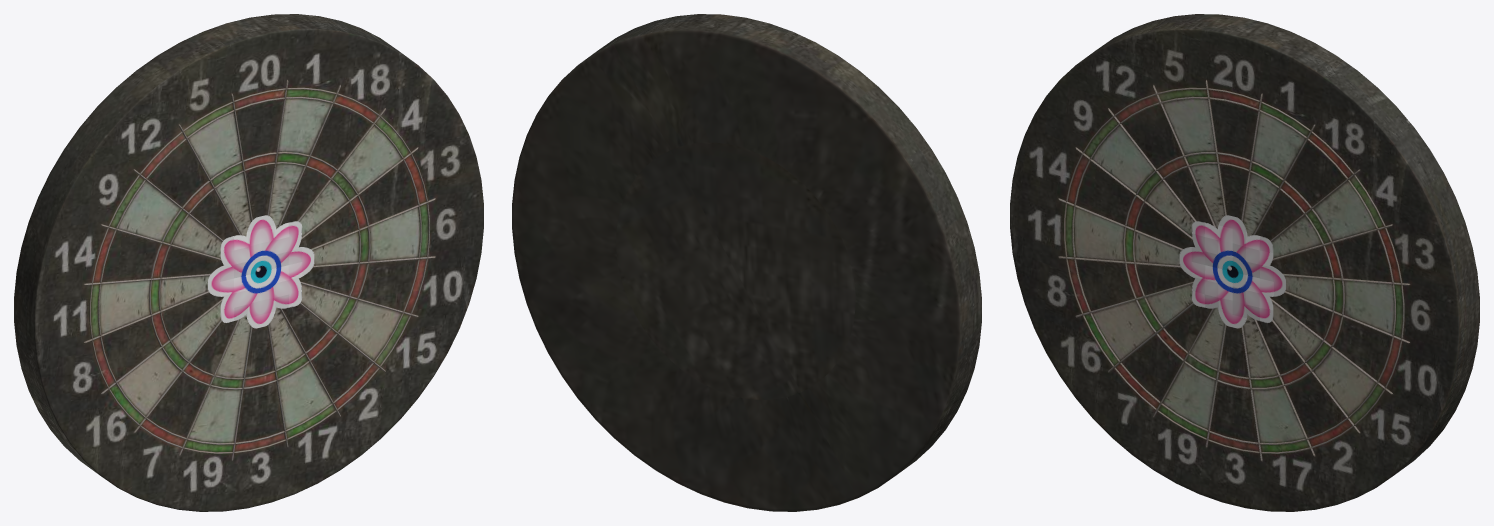
Rendered from nyb_mean_dartboard.glb.
3 views of the same model, side by side, from view 1: azimuth 30°, elevation 25°; view 2: azimuth 150°, elevation 25°; view 3: azimuth 330°, elevation 25° (orthographic).
Visible parts, largest first — view 1: dartboard, stk_eyeflower_die.png; view 2: dartboard; view 3: dartboard, stk_eyeflower_die.png.
Boxes of the visible parts, x1,y1,x2,y2 form: dartboard: (14,14,483,511); stk_eyeflower_die.png: (208,215,314,328); dartboard: (512,14,981,511); dartboard: (1010,14,1479,511); stk_eyeflower_die.png: (1179,215,1285,328).
Size of the model in its own units: 0.4507 by 0.4507 by 0.0418.
2 materials, 2 textured.
